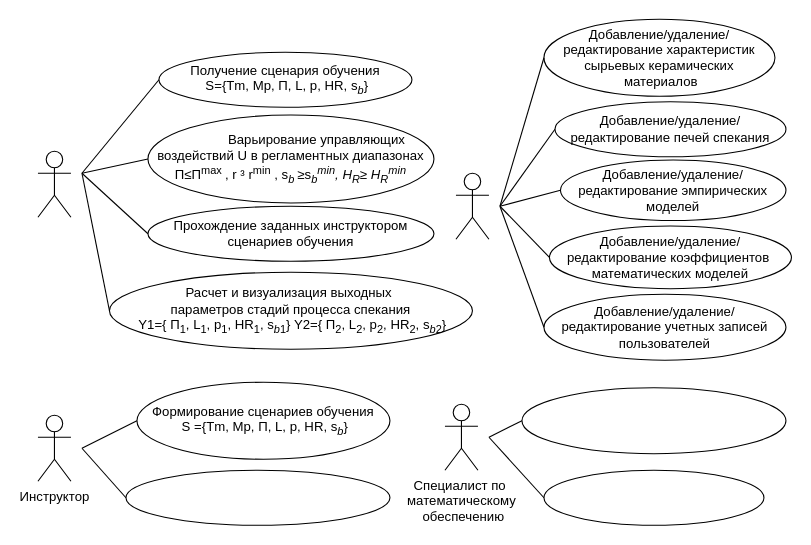
Some shapes in this 811 by 545 pixel diagram are drawn without their labels. Each missing label, with the centre of its shape:
Администратор: point (472, 205)
Анализ протоколов обучения: point (257, 497)
Выбор численного метода решения дифференциальных уравнений математической модели: point (653, 420)
Задание параметров метода решения: point (653, 497)
Обучаемый: point (54, 183)
